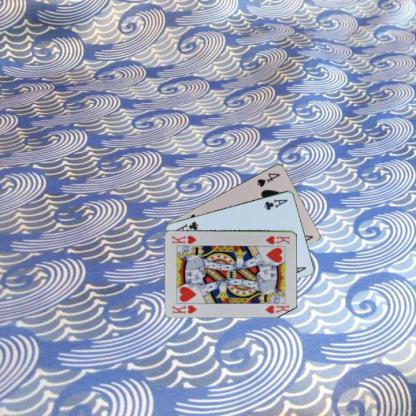4s: (254, 170, 282, 188)
Ac: (262, 196, 289, 211)
Kh: (171, 303, 198, 315), (263, 234, 290, 245)
